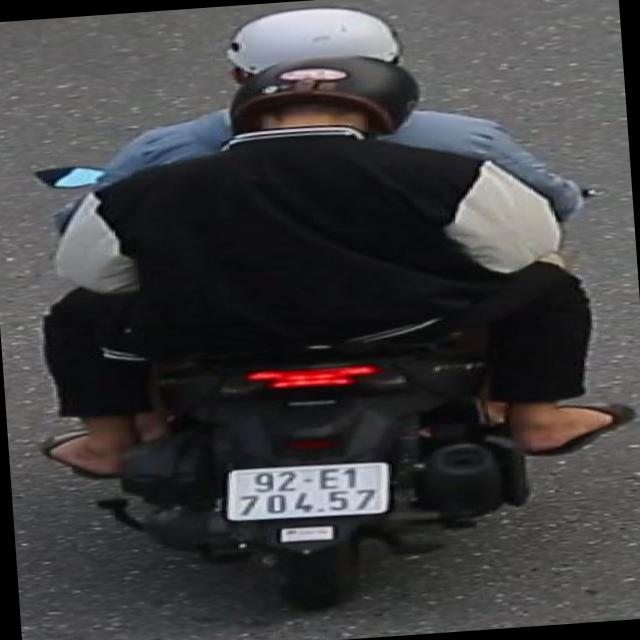LP: (214, 452, 398, 529)
helmet: (217, 46, 417, 158), (181, 0, 437, 84)
